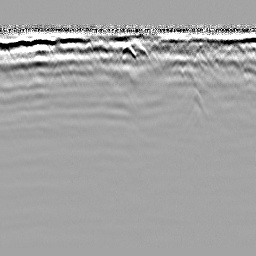cavity: (118, 41, 137, 59)
